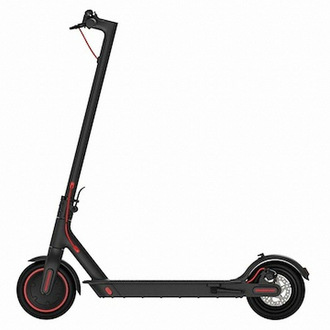scooter: (15, 6, 313, 322)
